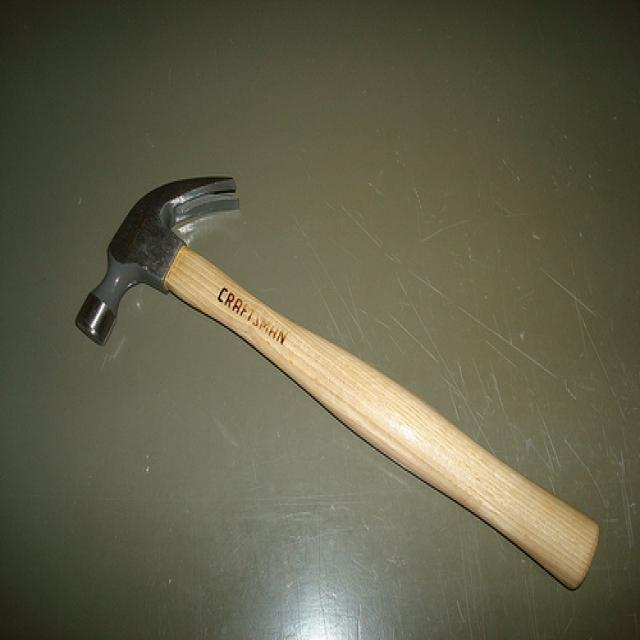hammer: (69, 162, 606, 600)
